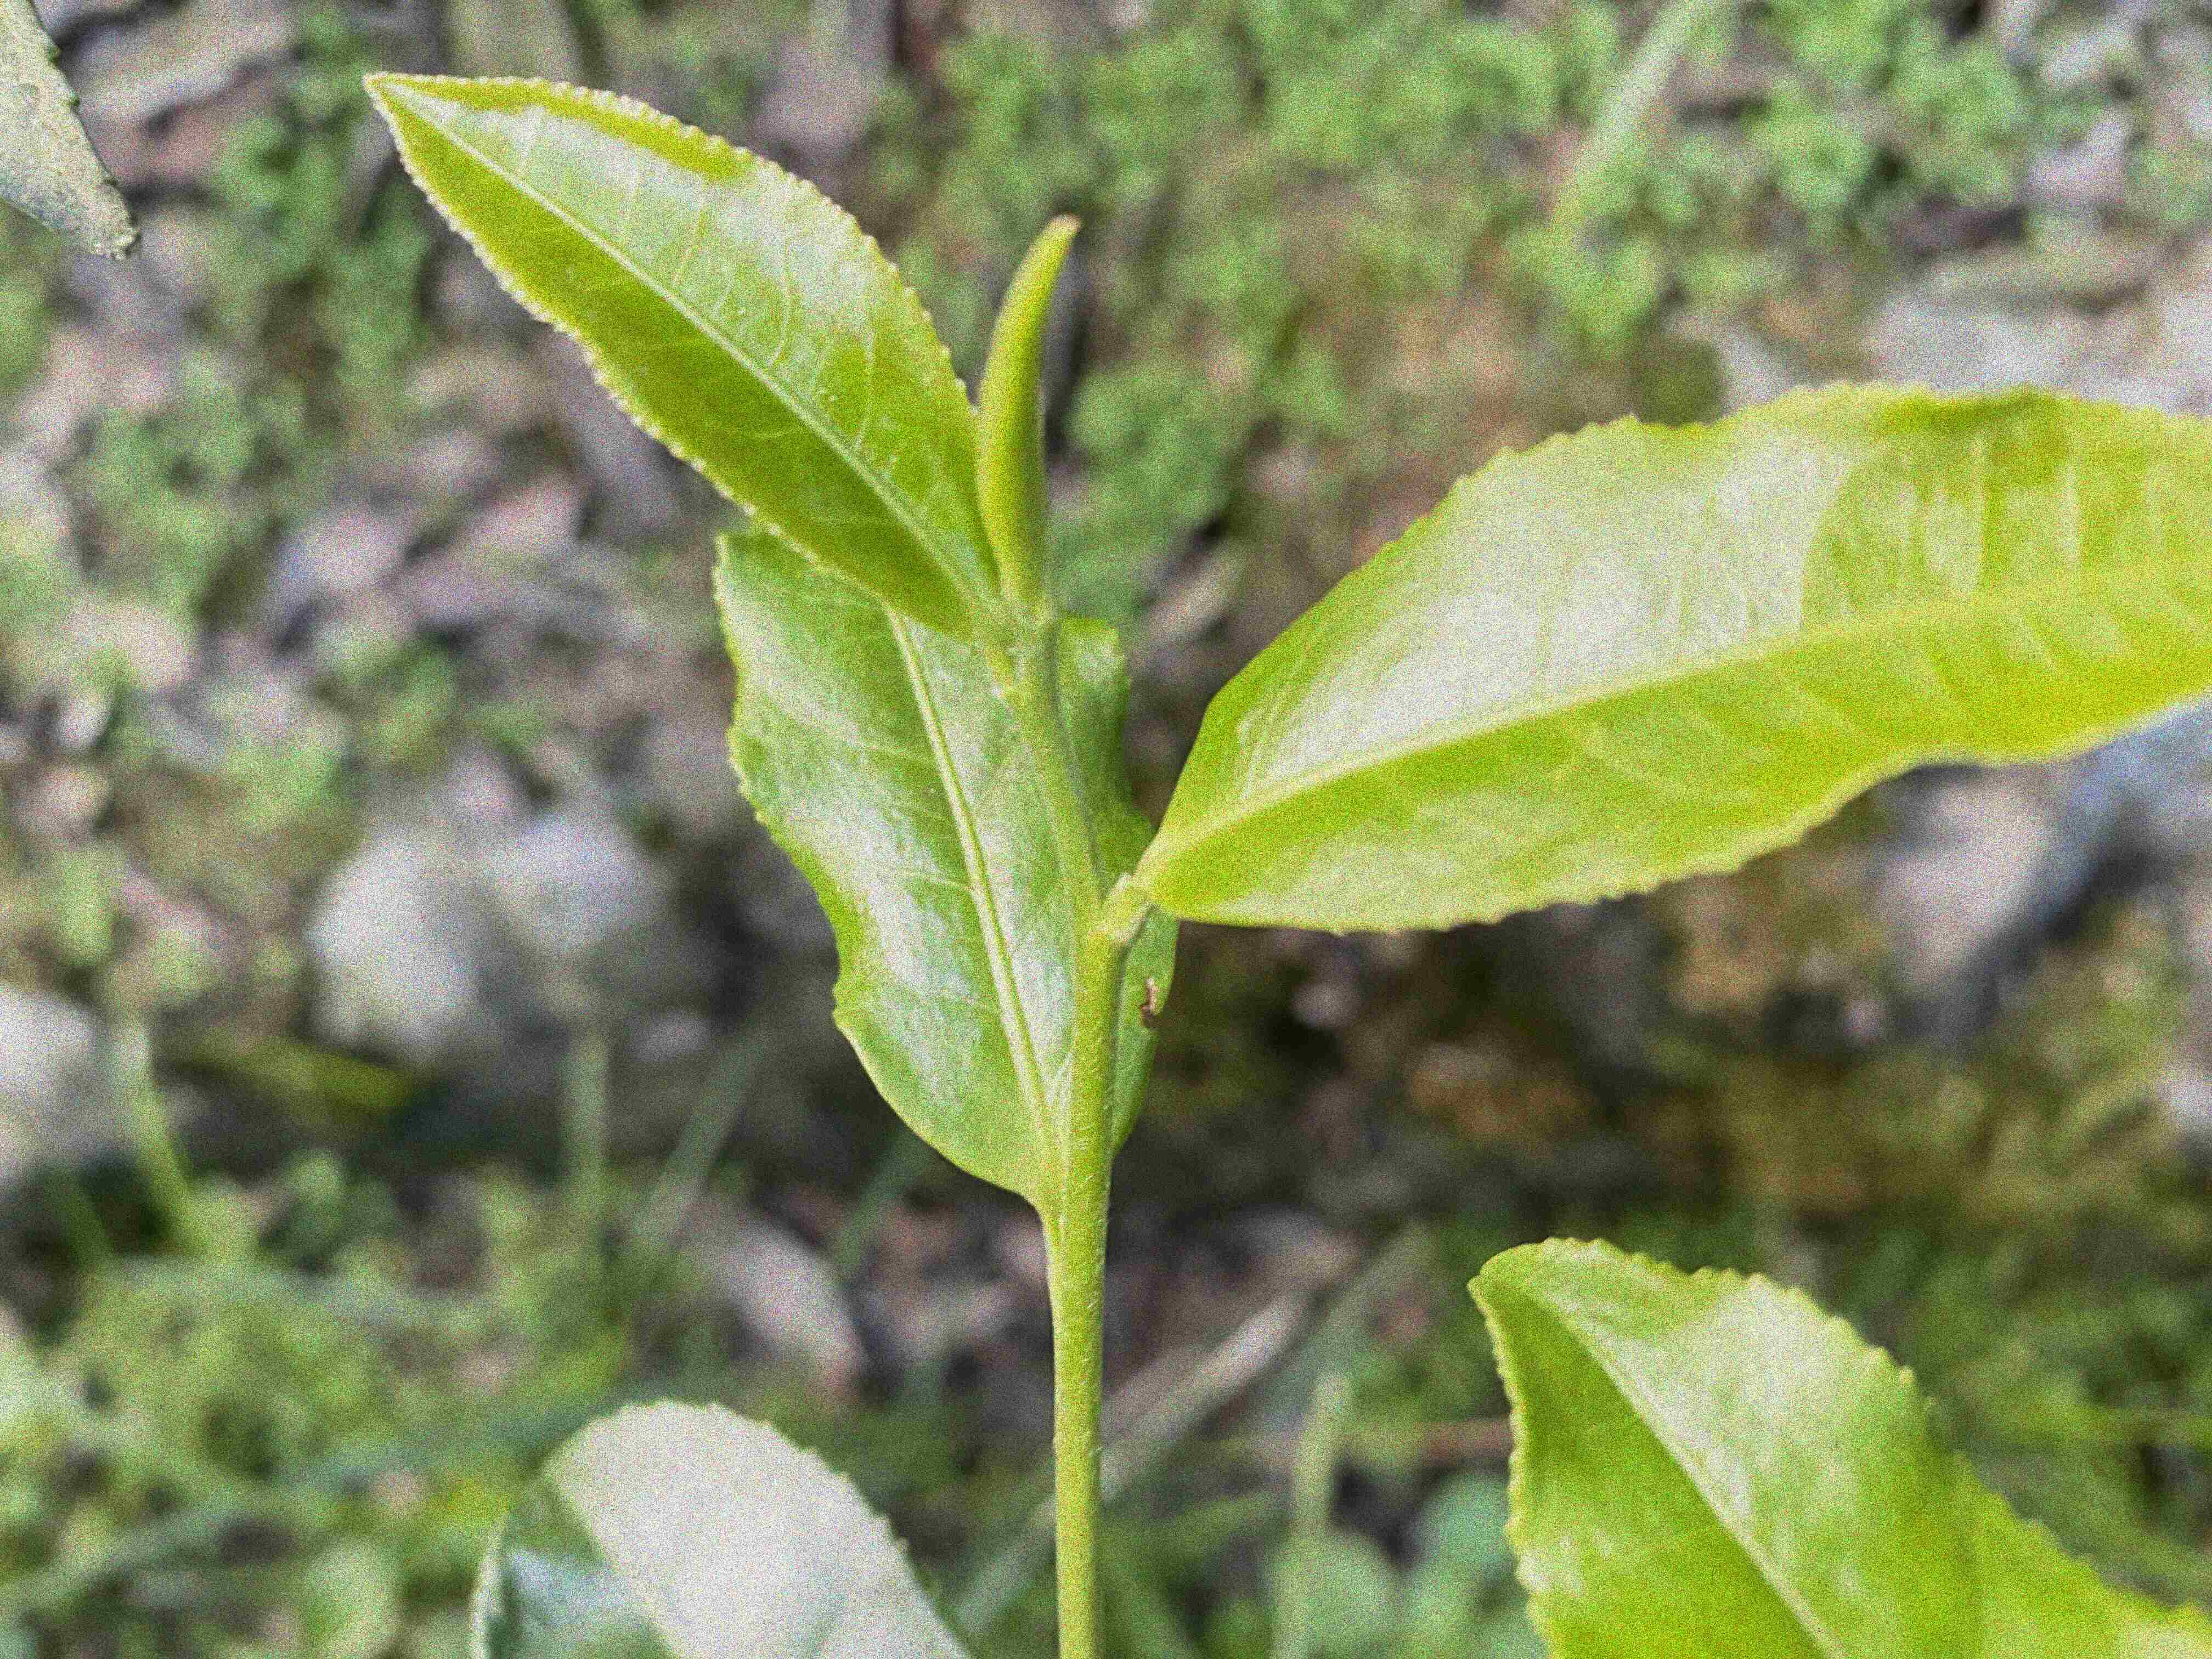healthy: (1143, 371, 2207, 943), (362, 68, 998, 647), (1458, 1229, 2209, 1656)
tanju_low: (711, 526, 1179, 1206)
